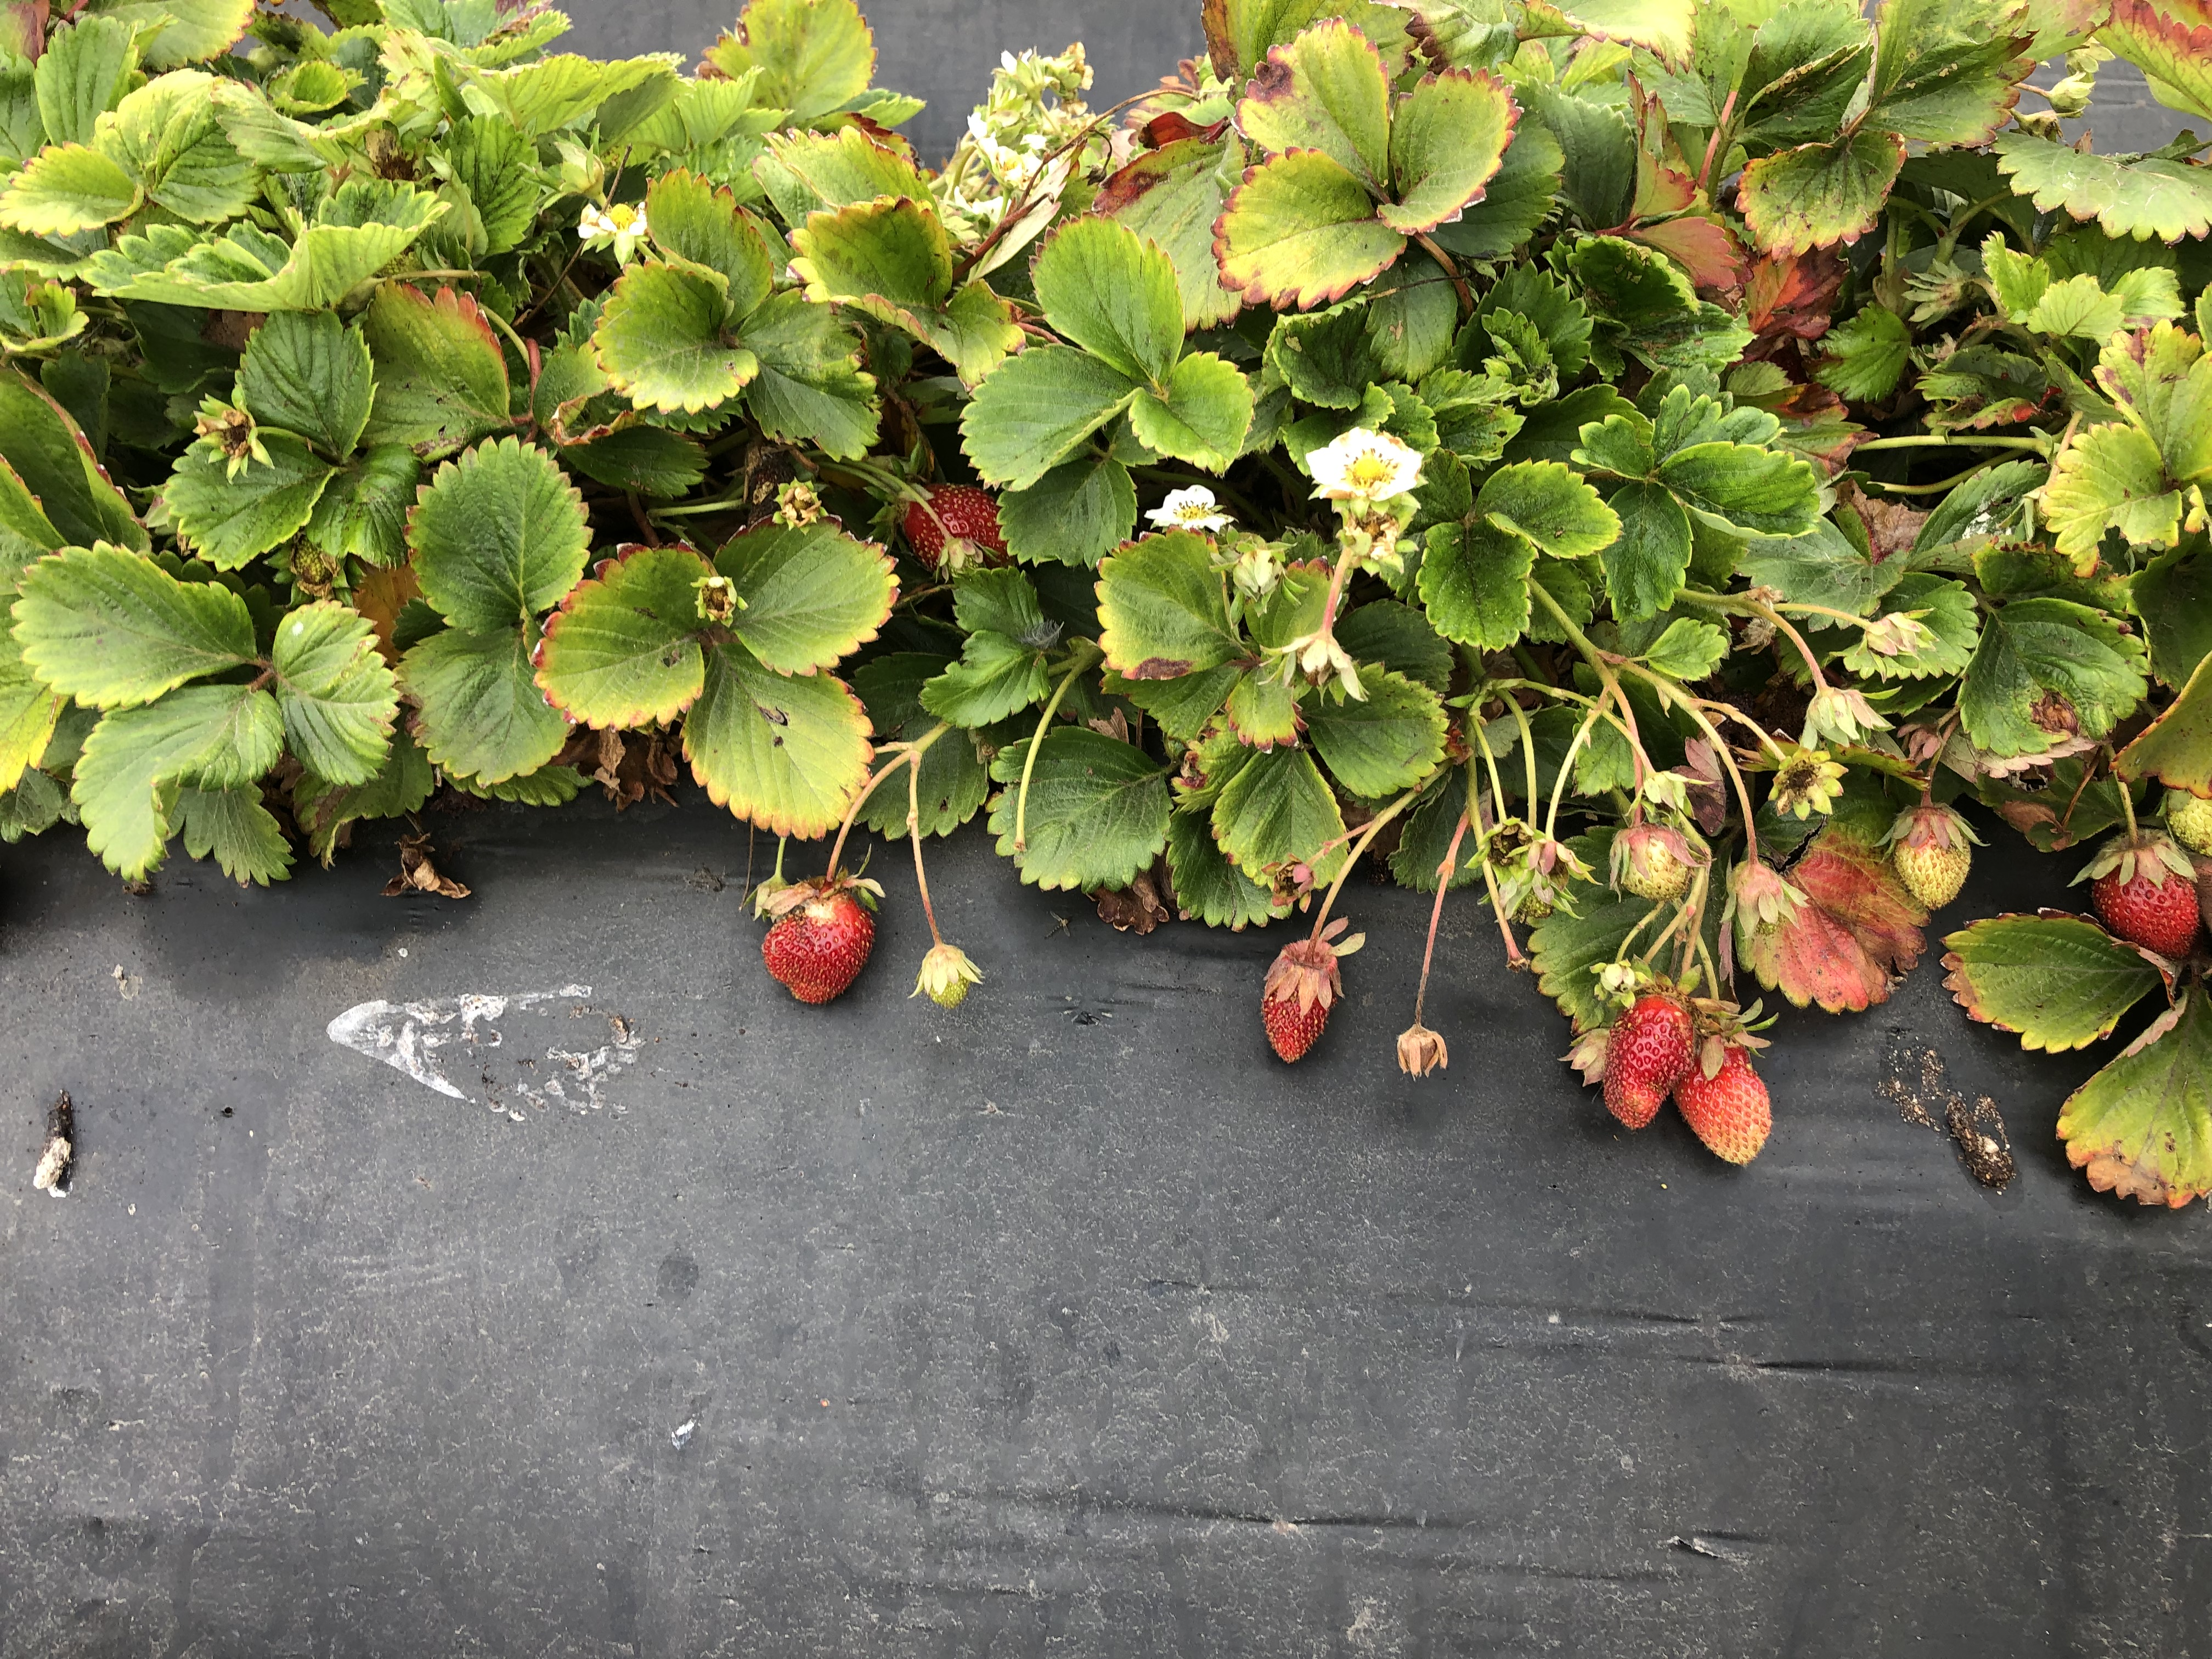ripe_strawberry: (1665, 1019, 1780, 1173), (758, 877, 887, 1009), (860, 465, 1015, 568), (2088, 828, 2200, 967), (1601, 983, 1698, 1129), (1254, 936, 1348, 1070)
unripe_strawberry: (1890, 805, 1977, 910), (1611, 823, 1702, 906), (920, 945, 982, 1014), (2160, 781, 2212, 859)
